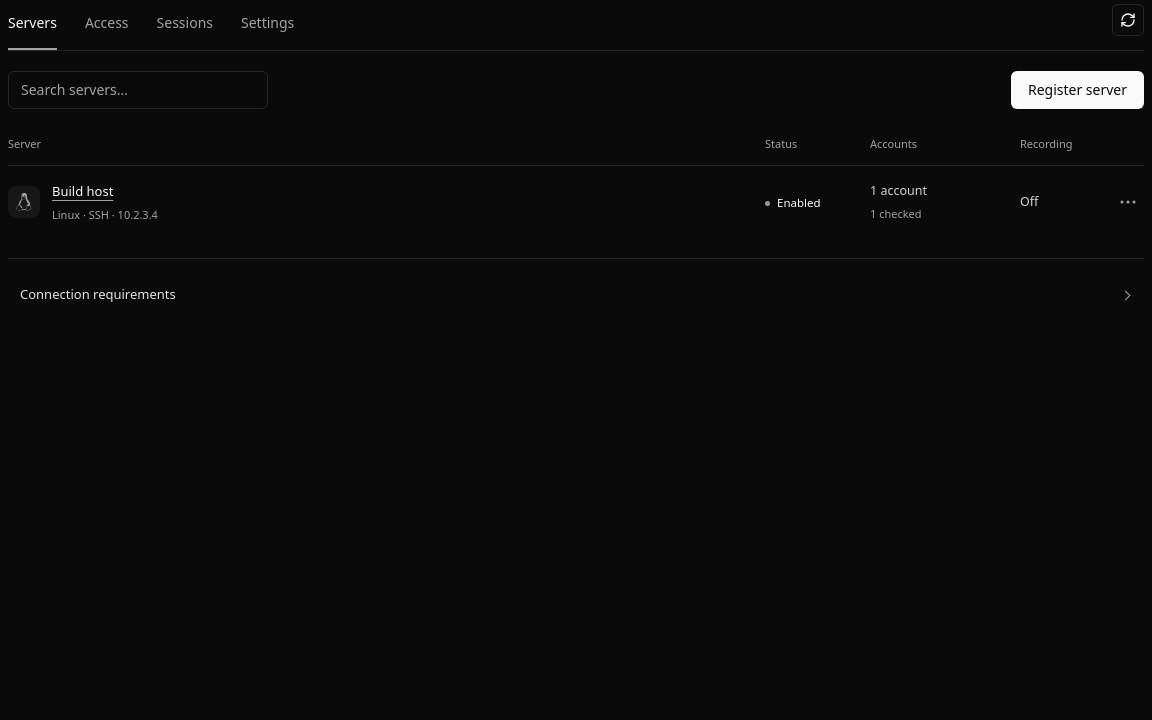
it: admin configuration reads are explicitly scoped to the selected organization
What coordinates should you click on to do the following:
click the button "Register server"
I would click on:
 (1077, 90)
Its box is [1011,71,1144,109].
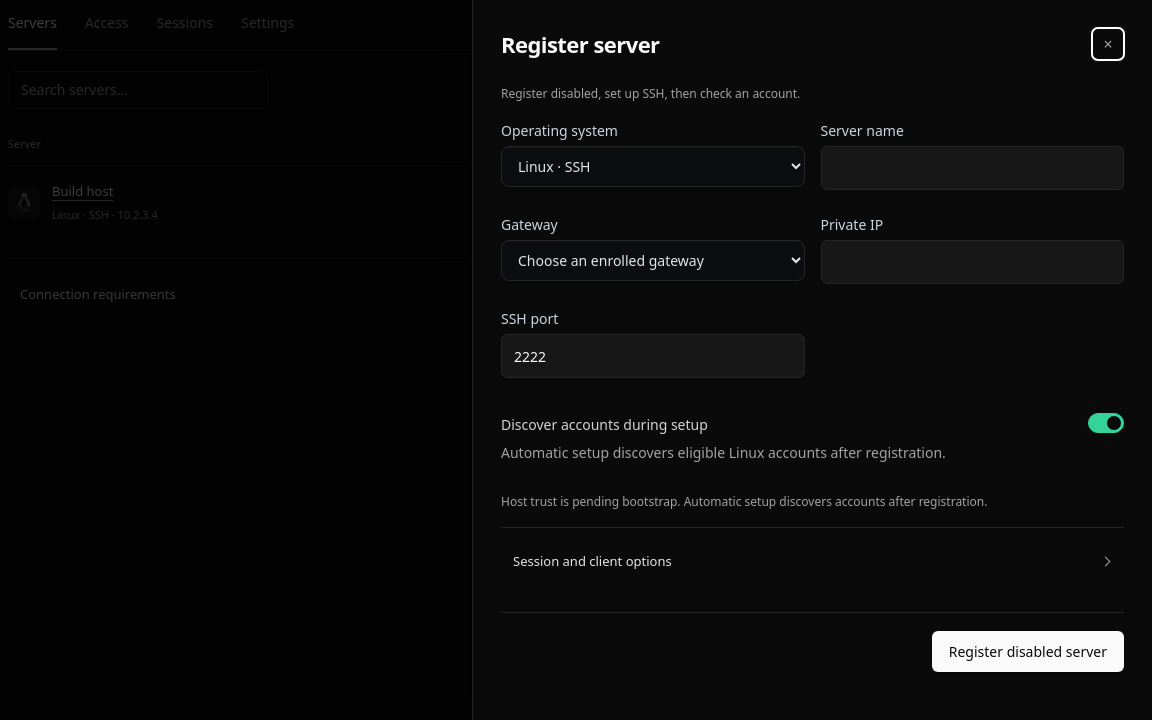
Result: the dialog "Register server" is shown at [472,0,1151,719]
